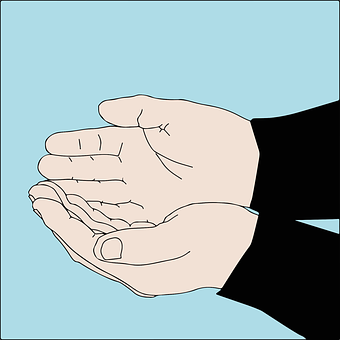palm: (127, 121, 245, 214)
